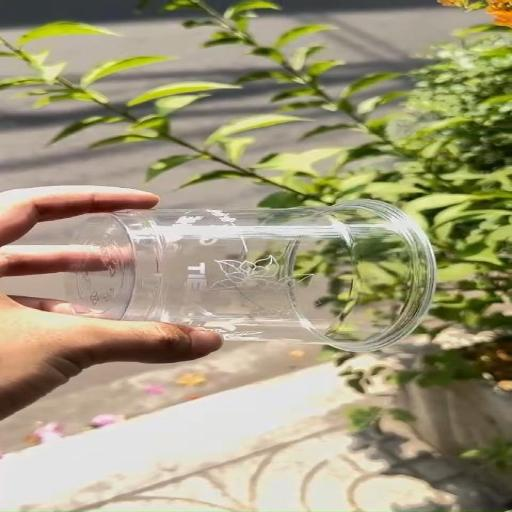ly_giay: (66, 199, 435, 351)
